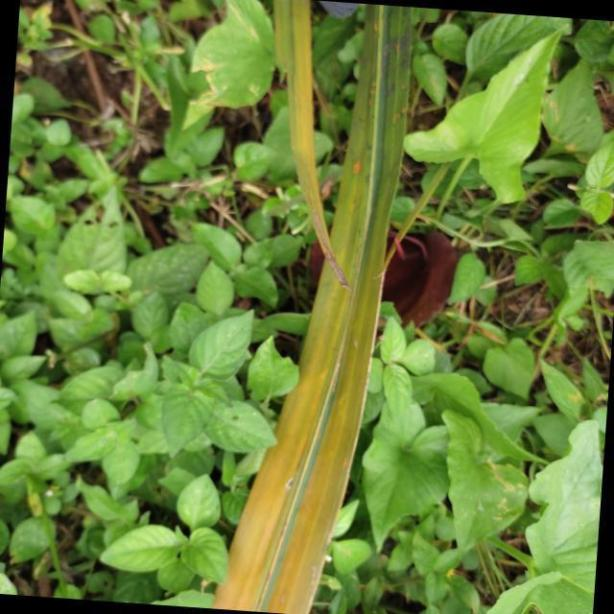Megnesium: (205, 0, 417, 614)
